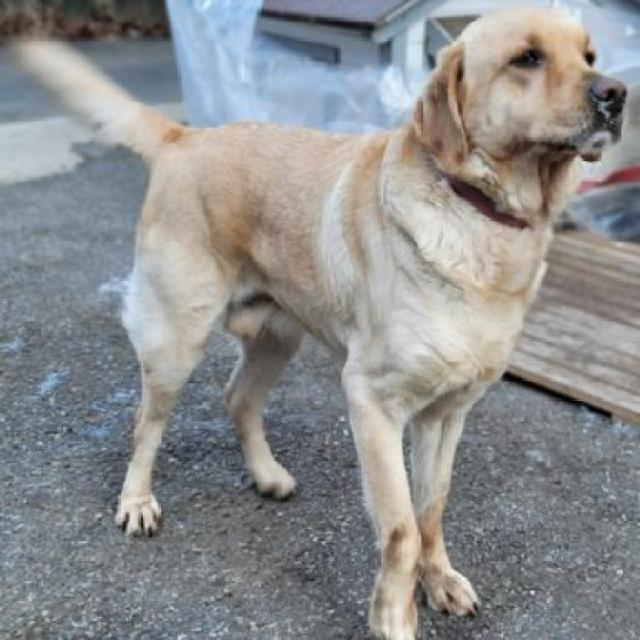Dog: (12, 0, 633, 638)
